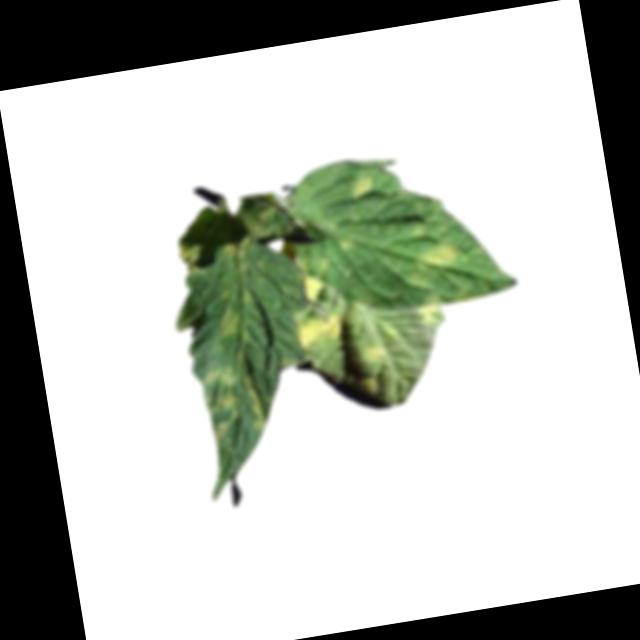Leaf_Mold: (195, 349, 269, 447), (402, 240, 468, 289), (290, 307, 350, 357), (214, 301, 245, 340), (347, 170, 380, 203), (297, 272, 331, 304), (414, 300, 446, 332), (361, 341, 388, 368)
